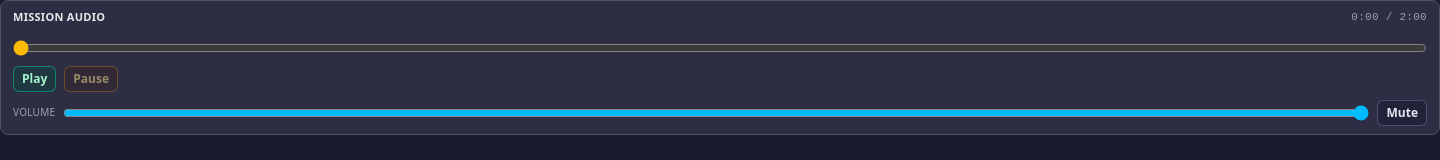
Test: MissionAudioPlayer interactions › commits seek on blur and clears drag state
Step 1. Press the mouse on the slider with test id "mission-audio-slider" → (720, 48), box [13,44,1427,52]
Step 2. Set the slider with test id "mission-audio-slider" to "45000" → (545, 48), box [13,44,1427,52]
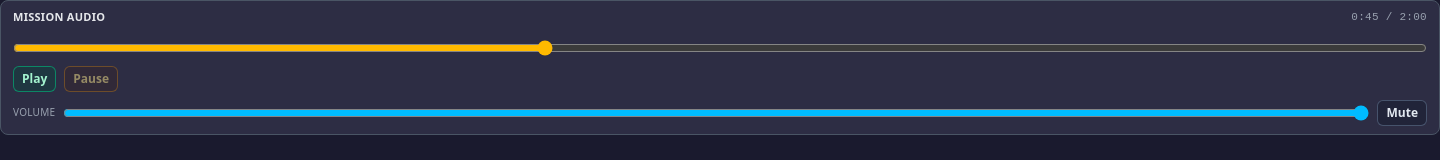
Step 3. Leave the slider with test id "mission-audio-slider", box [13,44,1427,52]
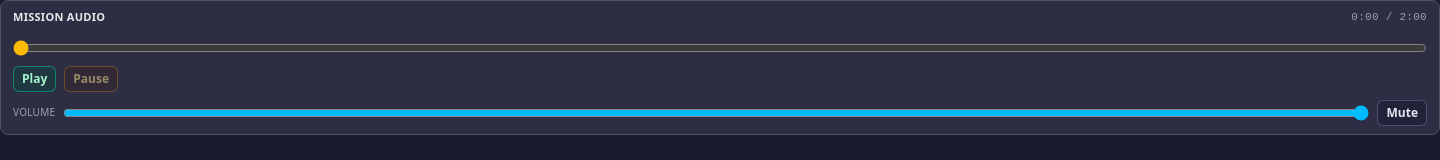
Expected: the slider with test id "mission-audio-slider" holds "0", [13,44,1427,52]
